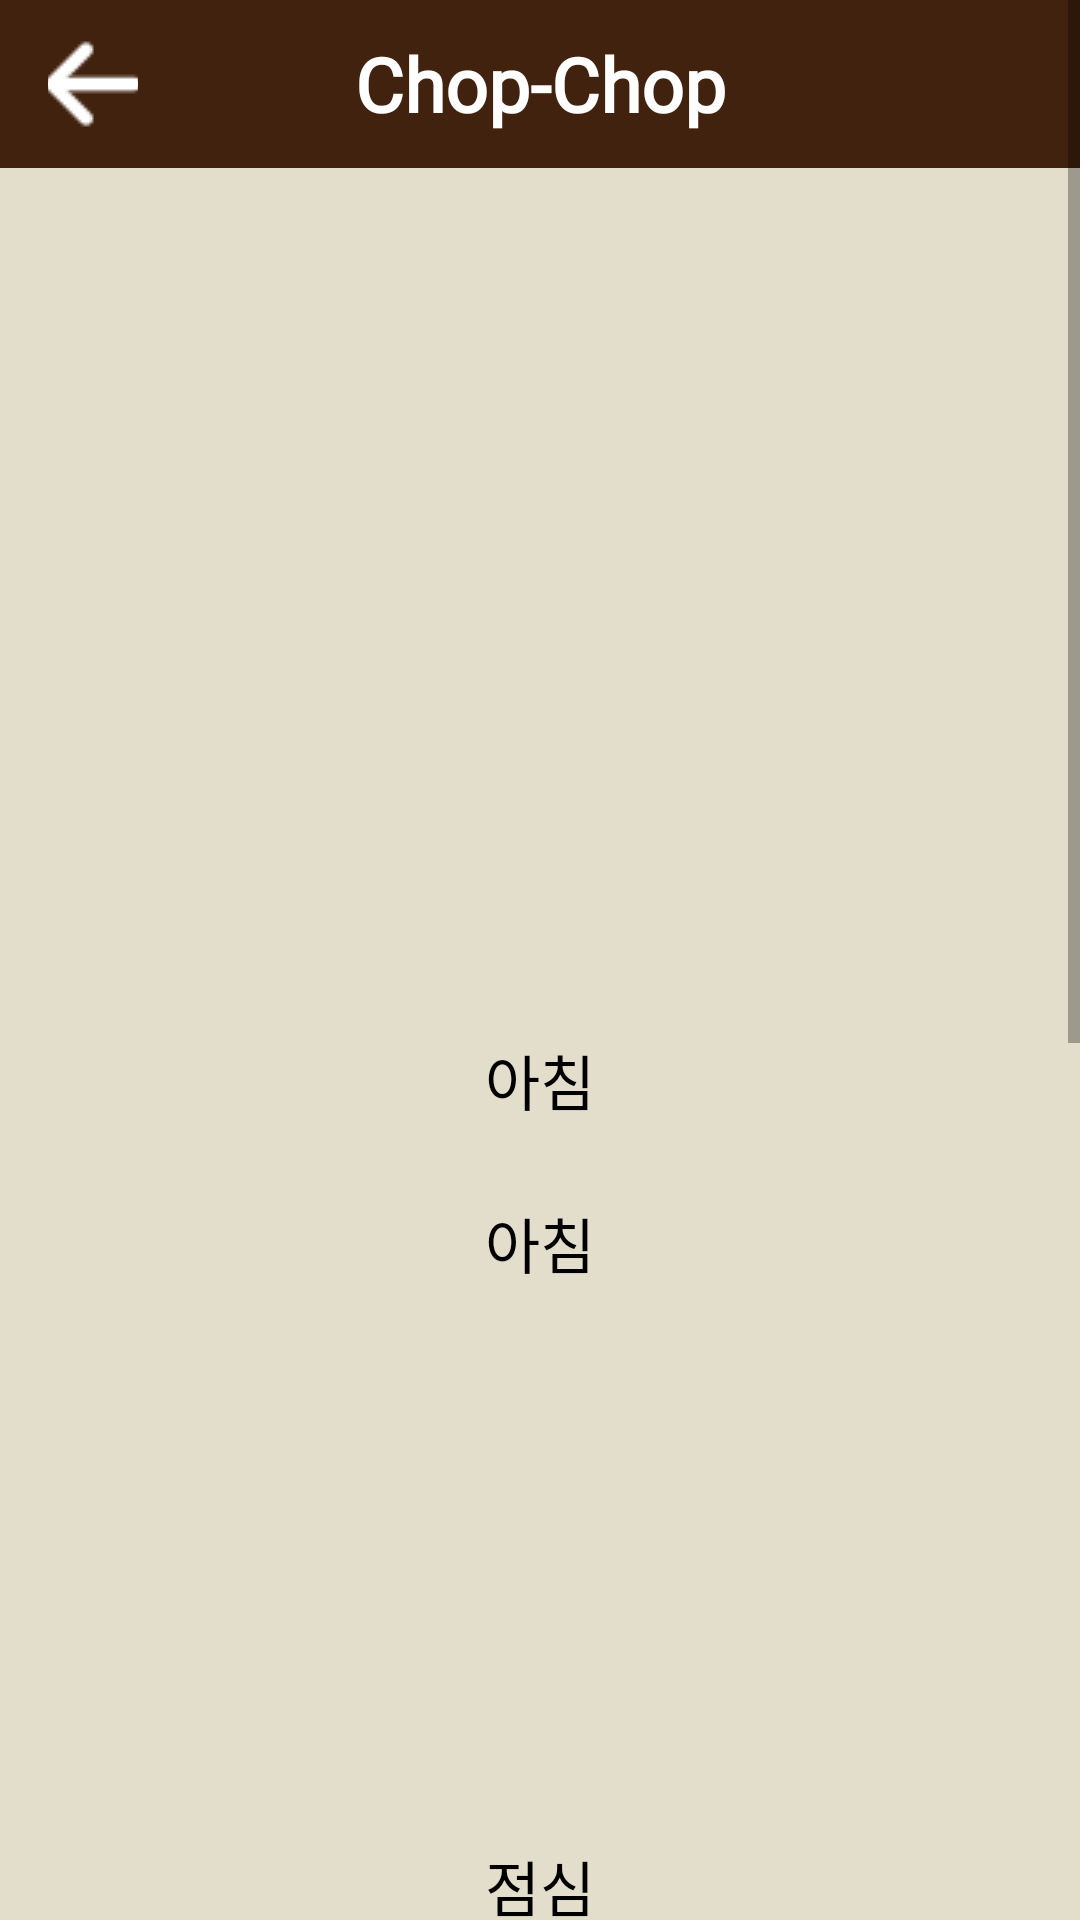

Locate icon controls on the screen. Image size 1080×1920, boxes as region(x1, y1, x2, y2).
back: region(48, 41, 138, 127)
